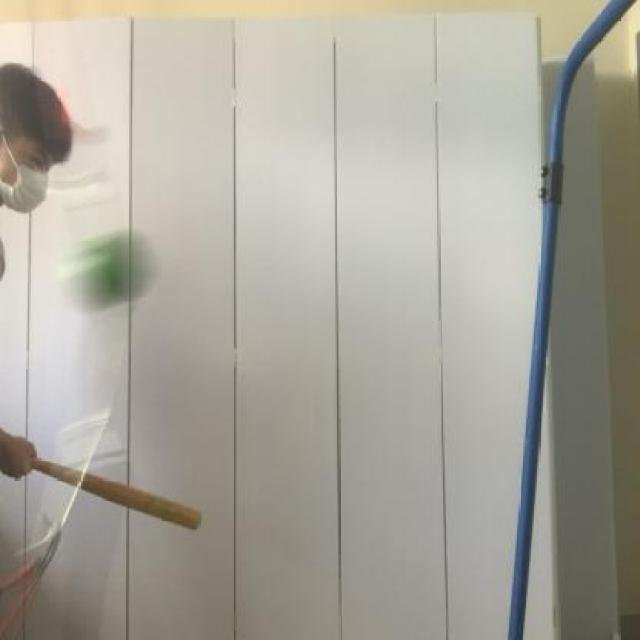baseball: (47, 218, 162, 314)
